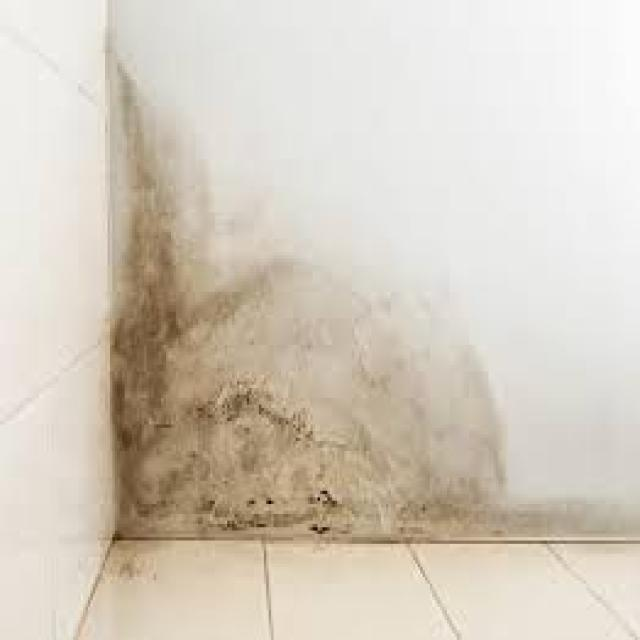dampness: (108, 33, 639, 540)
